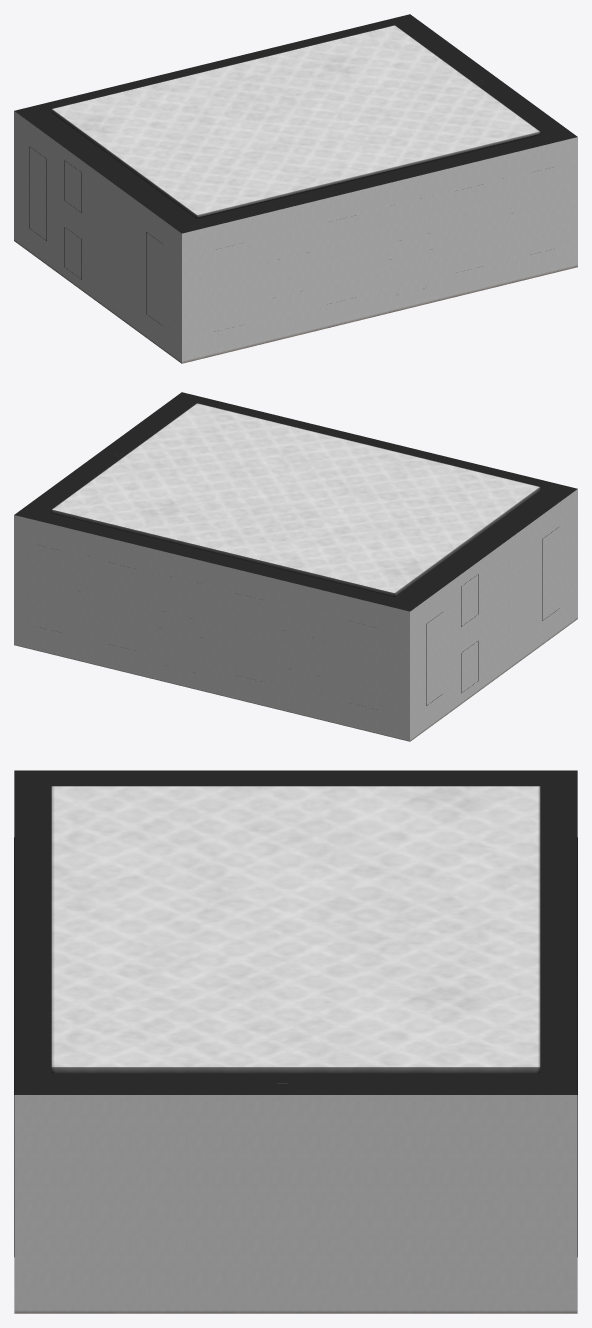
File: art_gallery.glb
3 views of the same model, one above another, from view 1: azimuth 30°, elevation 25°; view 2: azimuth 150°, elevation 25°; view 3: azimuth 270°, elevation 25° (orthographic). The views are drawn at different scales.
Visible parts, largest first — view 1: Art_Room; view 2: Art_Room; view 3: Art_Room.
Part boxes in pixels (left/top/right/bottom): Art_Room: left=14, top=14, right=577, bottom=363; Art_Room: left=14, top=392, right=577, bottom=741; Art_Room: left=14, top=770, right=577, bottom=1313.
Size of the model in its own units: 27.64 by 8.91 by 20.29.
Materials: 1 (1 with a texture image).
